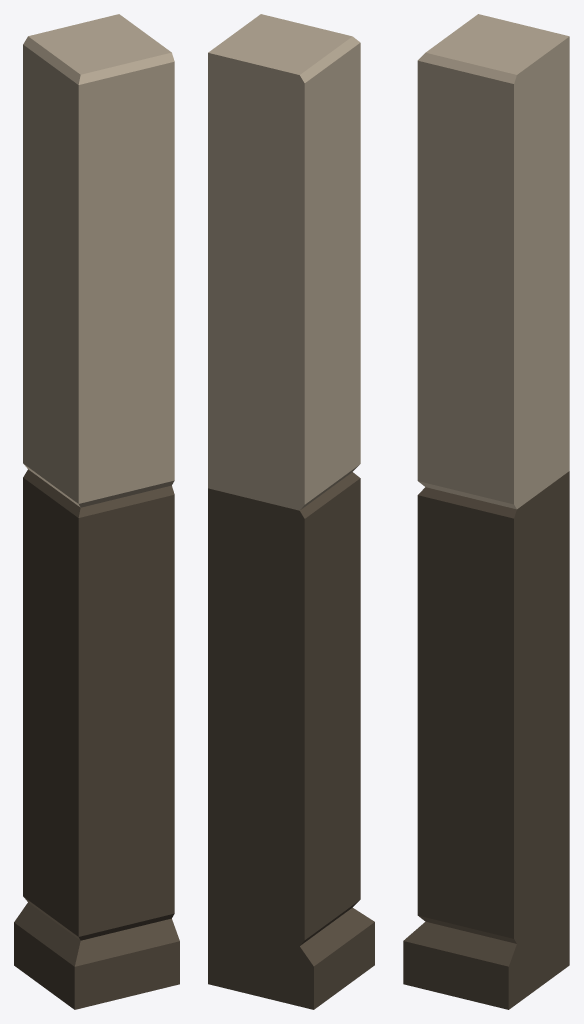
The model's file is Pillar_Exterior_Floor_04.glb.
The picture shows the model from 3 angles, left to right: view 1: azimuth 30°, elevation 25°; view 2: azimuth 150°, elevation 25°; view 3: azimuth 330°, elevation 25°; orthographic projection.
Parts seen in each view (by area): view 1: SM_Env_Pillar_Exterior_Floor_04; view 2: SM_Env_Pillar_Exterior_Floor_04; view 3: SM_Env_Pillar_Exterior_Floor_04.
Part boxes in pixels (x1,y1,x2,y2): SM_Env_Pillar_Exterior_Floor_04: (14,14,179,1009); SM_Env_Pillar_Exterior_Floor_04: (208,14,374,1009); SM_Env_Pillar_Exterior_Floor_04: (403,14,569,1009).
Size of the model in its own units: 0.3568 by 3 by 0.3568.
1 material, 1 textured.
